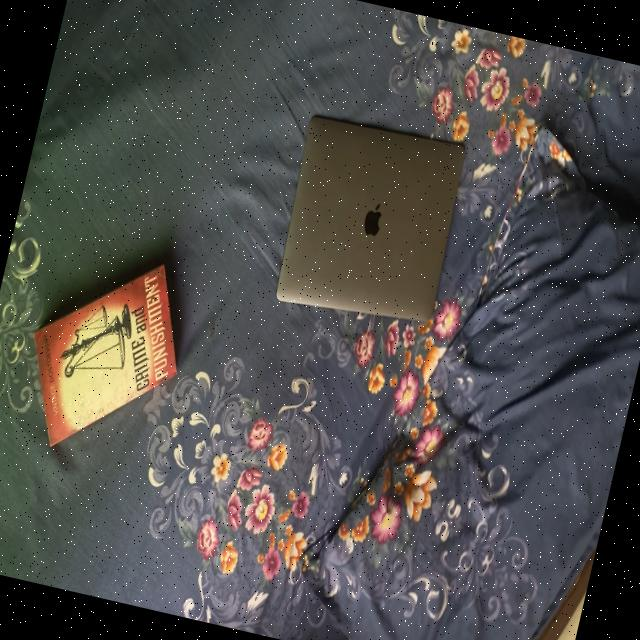book: (4, 232, 202, 485)
laptop: (246, 94, 484, 362)
